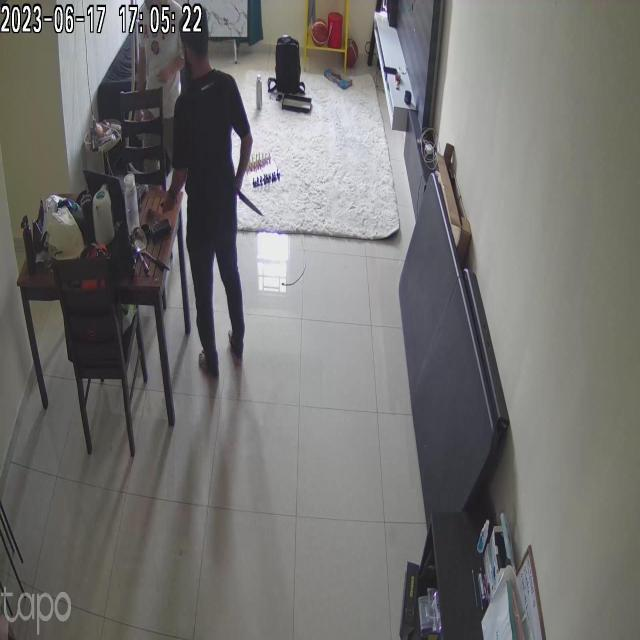Knife: (234, 189, 272, 223)
